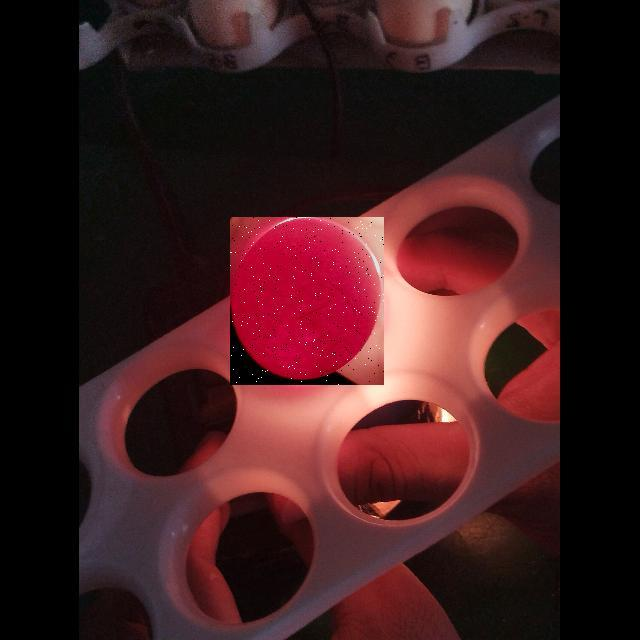Infertile: (230, 217, 384, 385)
